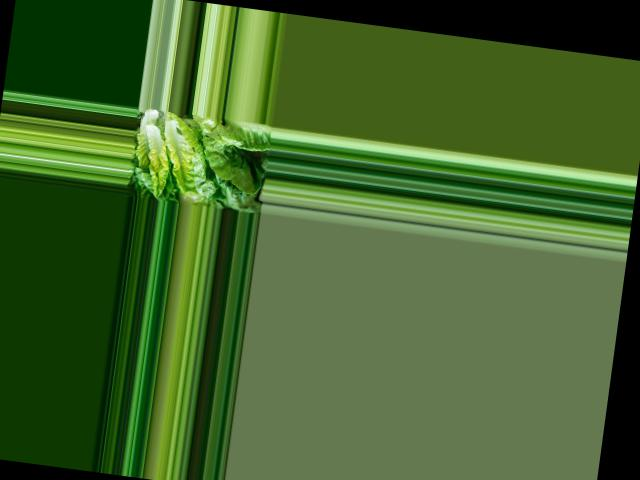lettuce: (129, 106, 227, 202)
